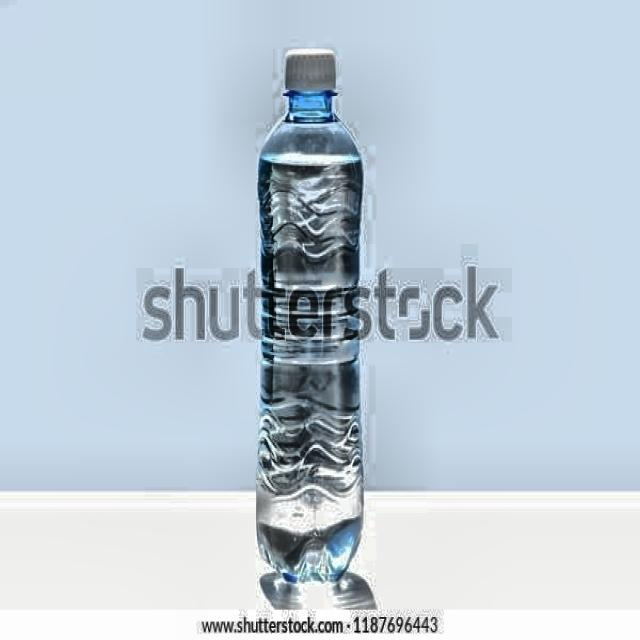Bottles: (250, 39, 364, 598)
